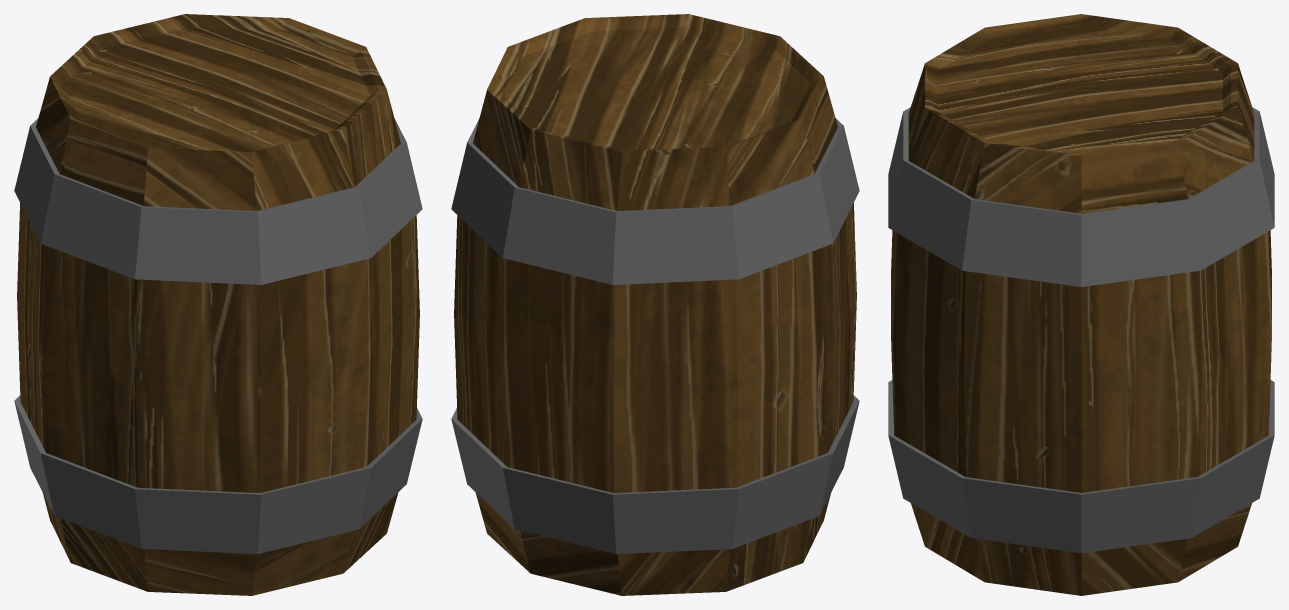
File: FinalBarrell.fbx
3 renders of one model, left to right at view 1: azimuth 30°, elevation 25°; view 2: azimuth 150°, elevation 25°; view 3: azimuth 270°, elevation 25°, orthographic.
Parts seen in each view (by area): view 1: pCylinder2; view 2: pCylinder2; view 3: pCylinder2.
Part boxes in pixels (x1,y1,x2,y2): pCylinder2: (14,14,422,595); pCylinder2: (451,14,859,595); pCylinder2: (888,14,1274,595).
Bounding box in the file's own units: 5.63 × 6.71 × 5.35.
Materials: 1 (1 with a texture image).
